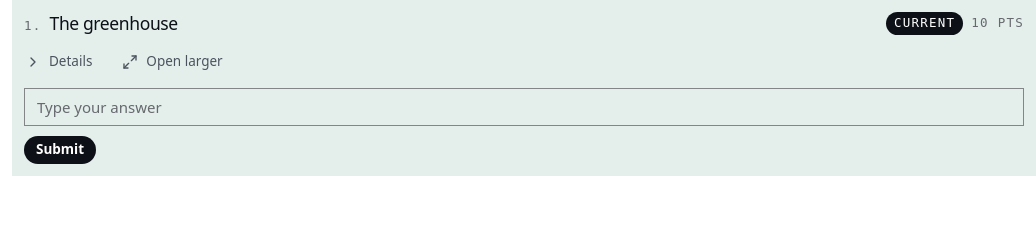
a question with a title › opens the wording in place and folds it again
This screenshot has width=1036, height=229.
Click the button "Details" at (59, 62), box [12,48,105,76]
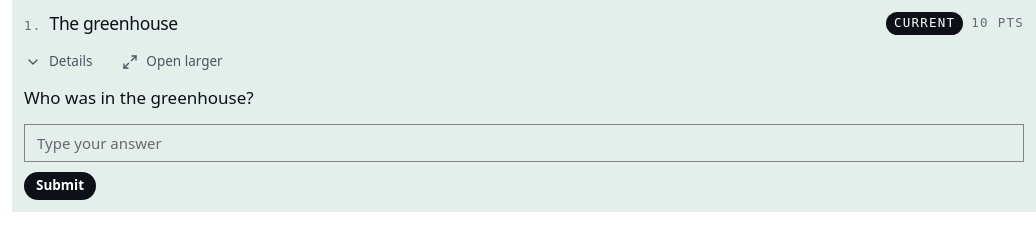
Check: the button "Details" is expanded
Check: the text "Who was in the greenhouse?" is shown, box [24,86,254,109]
Click the button "Details" at (59, 62), box [12,48,105,76]
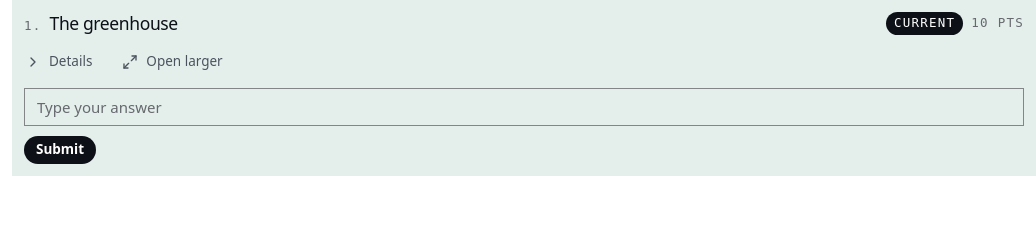
Check: the button "Details" is collapsed, box [12,48,105,76]
Check: the text "Who was in the greenhouse?" is gone
